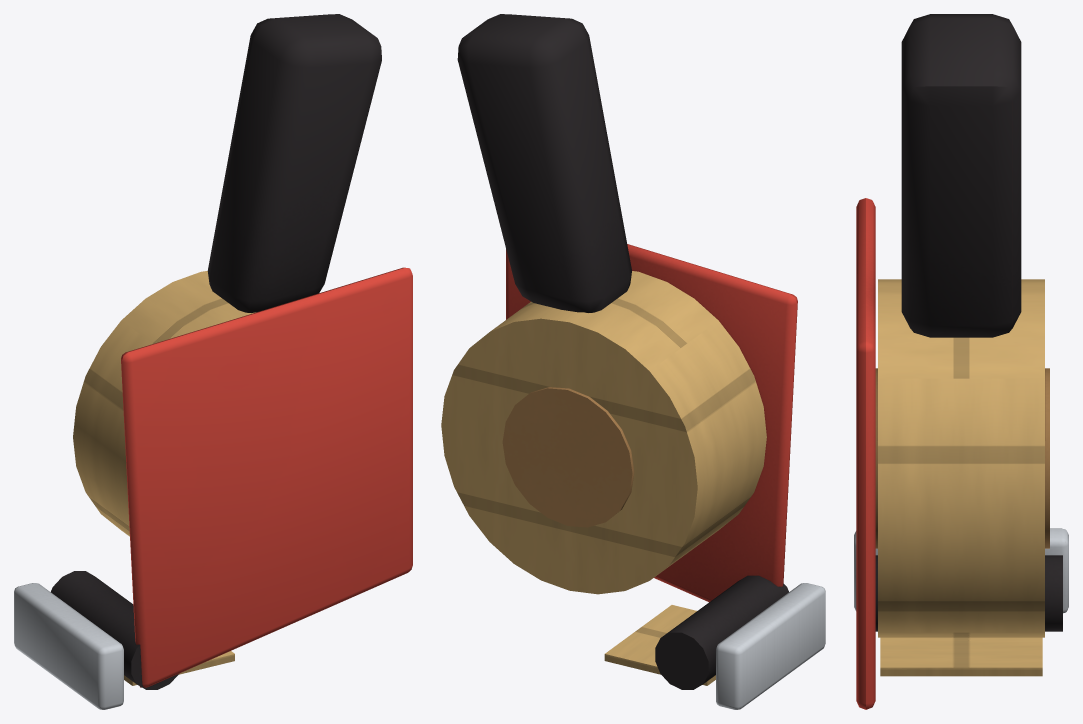
Rendered from tapegun.fbx.
3 renders of one model, left to right at view 1: azimuth 30°, elevation 25°; view 2: azimuth 150°, elevation 25°; view 3: azimuth 270°, elevation 25°, orthographic. The views are drawn at different scales.
Parts seen in each view (by area): view 1: tapegun; view 2: tapegun; view 3: tapegun.
Boxes of the visible parts, left/top/right/bottom form: tapegun: left=14, top=14, right=412, bottom=709; tapegun: left=441, top=14, right=825, bottom=709; tapegun: left=854, top=14, right=1068, bottom=709.
Bounding box in the file's own units: 0.185 × 0.333 × 0.09.
